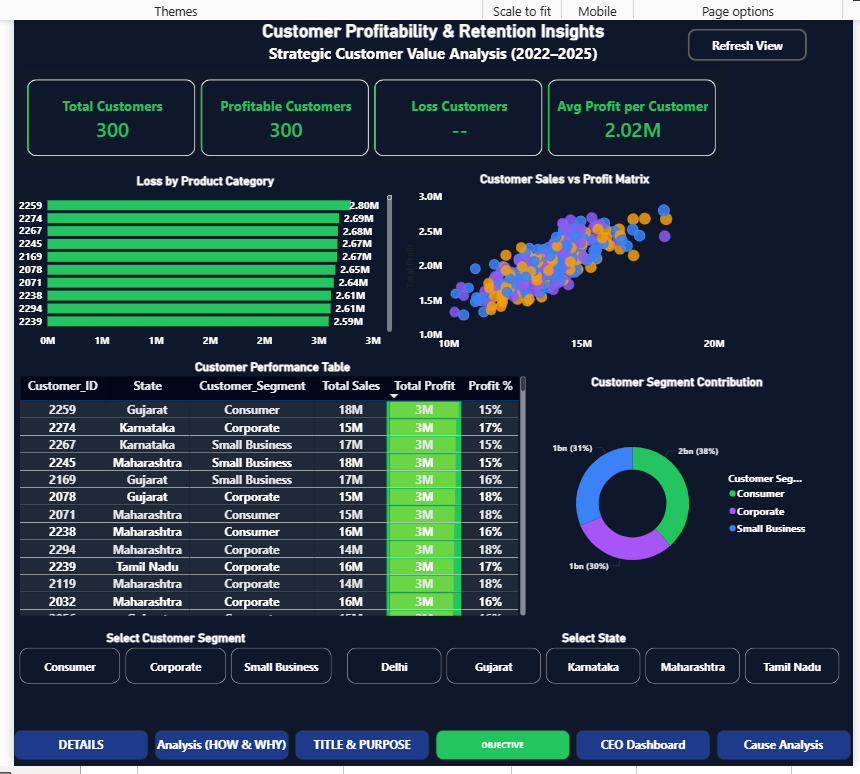

The dashboard page shown, as its layout file describes it:
{"tool":"powerbi","page":{"name":"OBJECTIVE","canvas":[1350,1200],"ordinal":3},"visuals":[{"type":"textbox","title":"Customer Profitability & Retention Insights","box":[0,0,1349.2,75.6],"z":0},{"type":"cardVisual","fields":{"Data":["Customer_Table.Total Customers","Customer_Table.Profitable Customers","Customer_Table.Loss Customers","Customer_Table.Avg Profit per Customer"]},"box":[4,78.4,1144.1,158.8],"z":1000},{"type":"clusteredBarChart","title":"Loss by Product Category","fields":{"Category":["Customer_Table.Customer_ID"],"Y":["Sales_Fact_Table.Total Profit"]},"box":[2,247.3,611.3,289.5],"z":2000},{"type":"tableEx","title":"Customer Performance Table","fields":{"Values":["Customer_Table.Customer_ID","Customer_Table.State","Customer_Table.Customer_Segment","Sales_Fact_Table.Total Sales","Sales_Fact_Table.Total Profit","Customer_Table.Profit %"]},"box":[4,546.9,824.4,416.2],"z":3000},{"type":"advancedSlicerVisual","title":"Select Customer Segment","fields":{"Values":["Customer_Table.Customer_Segment"]},"box":[4,983.2,512.7,90.5],"z":5000},{"type":"actionButton","box":[1083.8,14.7,191.7,51.6],"z":6000},{"type":"pageNavigator","box":[0,1142.1,1349.2,48.3],"z":7000},{"type":"scatterChart","title":"Customer Sales vs Profit Matrix","fields":{"X":["Sales_Fact_Table.Total Sales"],"Y":["Sales_Fact_Table.Total Profit"],"Size":["Sum(Sales_Fact_Table.Quantity)"],"Series":["Customer_Table.Customer_Segment"],"Category":["Customer_Table.Customer_ID"]},"box":[623.3,245.3,524.8,297.6],"z":8000},{"type":"donutChart","title":"Customer Segment Contribution","fields":{"Category":["Customer_Table.Customer_Segment"],"Y":["Sales_Fact_Table.Total Sales"]},"box":[836.5,571,460.5,392.1],"z":9000},{"type":"advancedSlicerVisual","title":"Select State","fields":{"Values":["Customer_Table.State"]},"box":[530.8,983.2,804.3,90.5],"z":10000}]}

Visuals, with their boxes on the page's 1350x1200 design canvas (x1, y1, x2, y2). These are canvas units, not pixel positions in the 860x774 screenshot, which may show the page scaled, cropped or inside an application window:
"Customer Profitability & Retention Insights" textbox: (0, 0, 1349, 76)
cardVisual - Customer_Table.Total Customers x Customer_Table.Profitable Customers: (4, 78, 1148, 237)
"Loss by Product Category" clusteredBarChart: (2, 247, 613, 537)
"Customer Performance Table" tableEx: (4, 547, 828, 963)
"Select Customer Segment" advancedSlicerVisual: (4, 983, 517, 1074)
actionButton: (1084, 15, 1276, 66)
pageNavigator: (0, 1142, 1349, 1190)
"Customer Sales vs Profit Matrix" scatterChart: (623, 245, 1148, 543)
"Customer Segment Contribution" donutChart: (836, 571, 1297, 963)
"Select State" advancedSlicerVisual: (531, 983, 1335, 1074)
